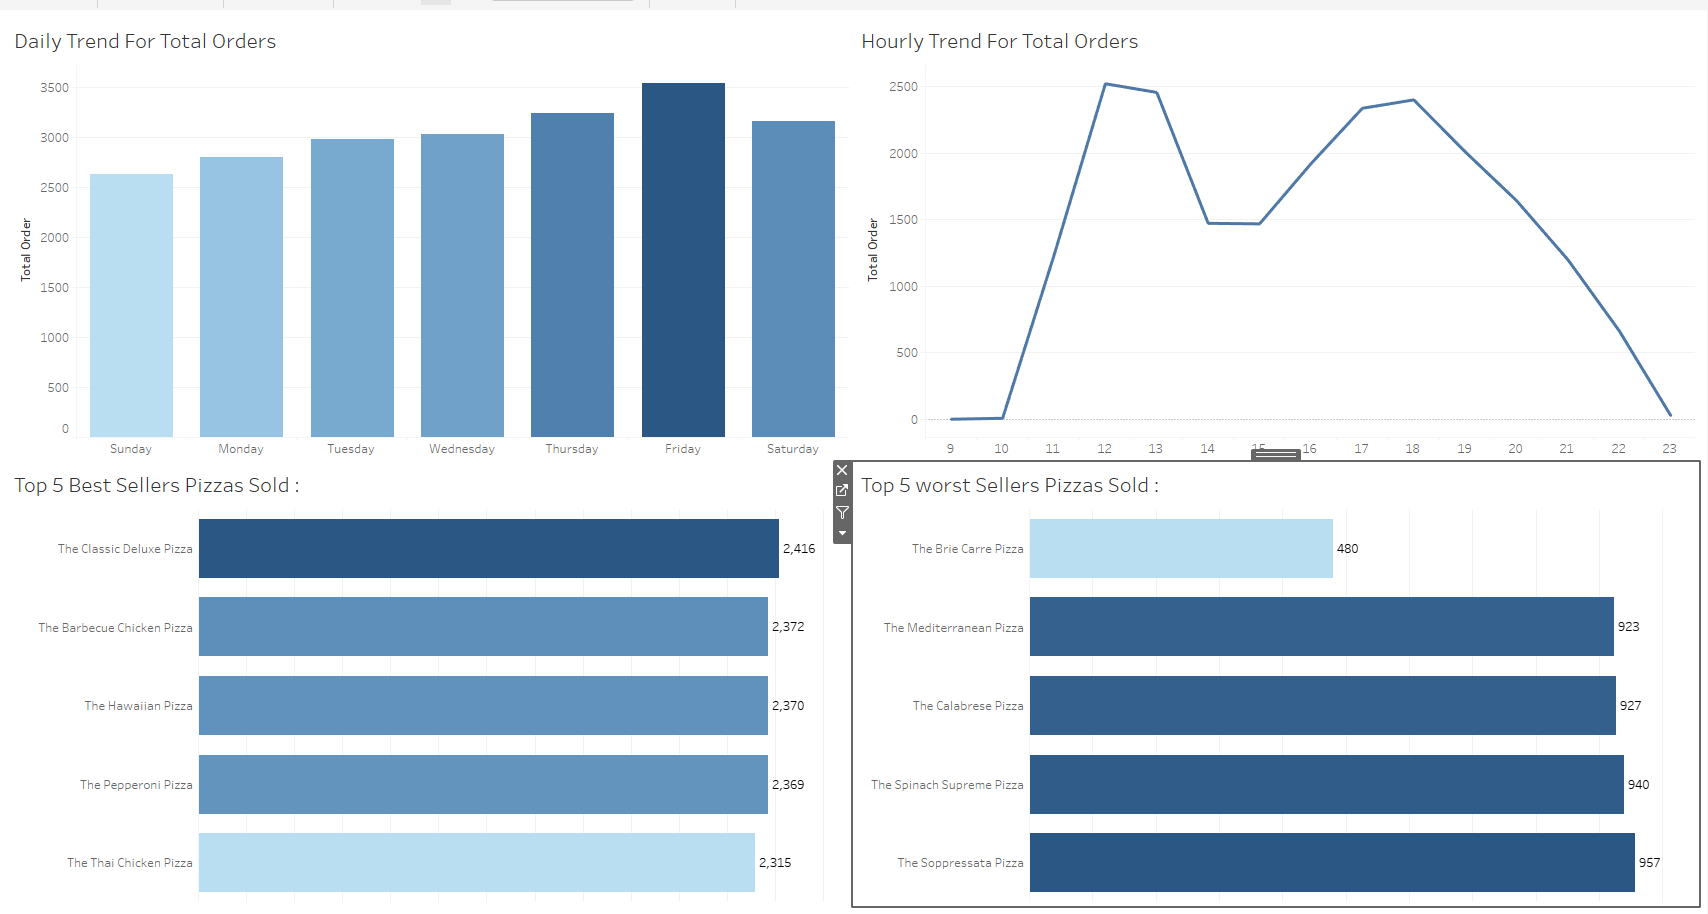

The page's visual inventory and layout, read from the dashboard file:
{"tool":"tableau","page":{"name":"Dashboard1","canvas":[1000,1000],"units":"permille","ordinal":0},"visuals":[{"type":"worksheet","title":"Daily Trend For Total Orders","mark":"Bar","rows":["total_order"],"cols":["order_date"],"box":[4.7,8.8,495.3,491.2]},{"type":"worksheet","title":"Hourly Trend For Total Orders","mark":"Automatic","rows":["total_order"],"cols":["order_time"],"box":[500,8.8,495.3,491.2]},{"type":"worksheet","title":"Top 5 Best Sellers Pizzas Sold :","mark":"Automatic","rows":["pizza_name"],"cols":["pizza!sales (2)_371EA577CEA54C47A2D5C7F9D5DBCD30"],"box":[4.7,500,495.3,491.2]},{"type":"worksheet","title":"Top 5 worst Sellers Pizzas Sold :","mark":"Automatic","rows":["pizza_name"],"cols":["pizza!sales (2)_371EA577CEA54C47A2D5C7F9D5DBCD30"],"box":[500,500,495.3,491.2]}]}

Visuals, with their boxes on the dashboard's canvas, which has no fixed pixel size, in thousandths of its width and height (x1, y1, x2, y2). These are canvas units, not pixel positions in the 1708x914 screenshot, which may show the page scaled, cropped or inside an application window:
"Daily Trend For Total Orders" worksheet (Bar marks): bbox=[5, 9, 500, 500]
"Hourly Trend For Total Orders" worksheet: bbox=[500, 9, 995, 500]
"Top 5 Best Sellers Pizzas Sold :" worksheet: bbox=[5, 500, 500, 991]
"Top 5 worst Sellers Pizzas Sold :" worksheet: bbox=[500, 500, 995, 991]
